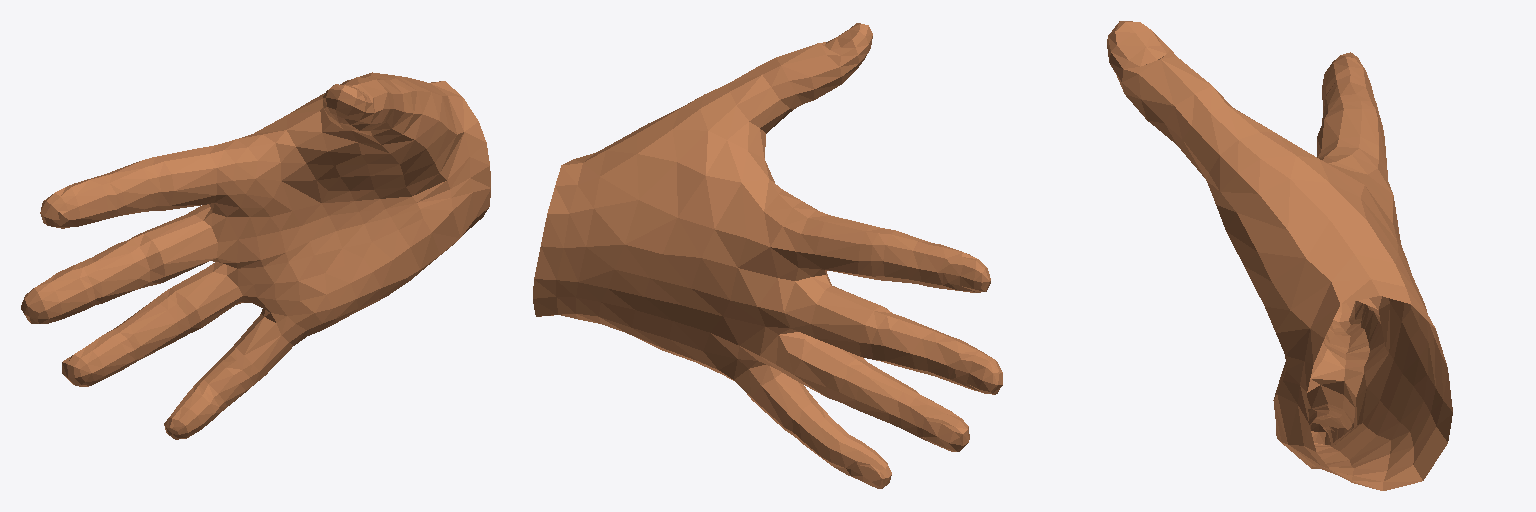
robot.urdf — mano_right:
<?xml version='1.0' encoding='utf-8'?>
<robot name="mano_right">
  <!--Approximate rigid-link MANO model: 21 revolute anatomical DOFs; six virtual links represent two-axis joints. Units: meters.-->
  <link name="base_link">
    <visual>
      <origin xyz="0 0 0" rpy="0 0 0" />
      <geometry>
        <mesh filename="mano_right_meshes/base_link.obj" />
      </geometry>
      <material name="mano_skin">
        <color rgba="0.78 0.54 0.38 1" />
      </material>
    </visual>
    <collision>
      <origin xyz="0 0 0" rpy="0 0 0" />
      <geometry>
        <mesh filename="mano_right_meshes/base_link.obj" />
      </geometry>
    </collision>
  </link>
  <link name="thumb_cmc_opposition_virtual_link" />
  <joint name="thumb_cmc_opposition" type="revolute">
    <parent link="base_link" />
    <child link="thumb_cmc_opposition_virtual_link" />
    <origin xyz="-0.0240896866 -0.0155223366 0.0258128485" rpy="0 0 0" />
    <axis xyz="0.204657919 -0.959969766 -0.19124117" />
    <limit lower="-0.785398163" upper="1.30899694" effort="1" velocity="10" />
  </joint>
  <link name="thumb_mcp">
    <visual>
      <origin xyz="0 0 0" rpy="0 0 0" />
      <geometry>
        <mesh filename="mano_right_meshes/thumb_mcp.obj" />
      </geometry>
      <material name="mano_skin">
        <color rgba="0.78 0.54 0.38 1" />
      </material>
    </visual>
    <collision>
      <origin xyz="0 0 0" rpy="0 0 0" />
      <geometry>
        <mesh filename="mano_right_meshes/thumb_mcp.obj" />
      </geometry>
    </collision>
  </link>
  <joint name="thumb_cmc_abduction" type="revolute">
    <parent link="thumb_cmc_opposition_virtual_link" />
    <child link="thumb_mcp" />
    <origin xyz="0 0 0" rpy="0 0 0" />
    <axis xyz="0.798923987 0.0486935512 0.599457589" />
    <limit lower="-0.610865238" upper="1.22173048" effort="1" velocity="10" />
  </joint>
  <link name="thumb_mcp_flexion_virtual_link" />
  <joint name="thumb_mcp_flexion" type="revolute">
    <parent link="thumb_mcp" />
    <child link="thumb_mcp_flexion_virtual_link" />
    <origin xyz="-0.015143767 -0.0156783657 0.0217435546" rpy="0 0 0" />
    <axis xyz="0.556177022 -0.226029605 0.799736043" />
    <limit lower="-0.34906585" upper="1.3962634" effort="1" velocity="10" />
  </joint>
  <link name="thumb_pip">
    <visual>
      <origin xyz="0 0 0" rpy="0 0 0" />
      <geometry>
        <mesh filename="mano_right_meshes/thumb_pip.obj" />
      </geometry>
      <material name="mano_skin">
        <color rgba="0.78 0.54 0.38 1" />
      </material>
    </visual>
    <collision>
      <origin xyz="0 0 0" rpy="0 0 0" />
      <geometry>
        <mesh filename="mano_right_meshes/thumb_pip.obj" />
      </geometry>
    </collision>
  </link>
  <joint name="thumb_mcp_abduction" type="revolute">
    <parent link="thumb_mcp_flexion_virtual_link" />
    <child link="thumb_pip" />
    <origin xyz="0 0 0" rpy="0 0 0" />
    <axis xyz="0.267337323 -0.86157801 -0.431525305" />
    <limit lower="-0.436332313" upper="0.8" effort="1" velocity="10" />
  </joint>
  <link name="thumb_dip">
    <visual>
      <origin xyz="0 0 0" rpy="0 0 0" />
      <geometry>
        <mesh filename="mano_right_meshes/thumb_dip.obj" />
      </geometry>
      <material name="mano_skin">
        <color rgba="0.78 0.54 0.38 1" />
      </material>
    </visual>
    <collision>
      <origin xyz="0 0 0" rpy="0 0 0" />
      <geometry>
        <mesh filename="mano_right_meshes/thumb_dip.obj" />
      </geometry>
    </collision>
  </link>
  <joint name="thumb_ip_flexion" type="revolute">
    <parent link="thumb_pip" />
    <child link="thumb_dip" />
    <origin xyz="-0.0180882961 -0.0170529485 0.0107752159" rpy="0 0 0" />
    <axis xyz="0.267337323 -0.86157801 -0.431525305" />
    <limit lower="-0.34906585" upper="1.57079633" effort="1" velocity="10" />
  </joint>
  <link name="index_mcp_flexion_virtual_link" />
  <joint name="index_mcp_flexion" type="revolute">
    <parent link="base_link" />
    <child link="index_mcp_flexion_virtual_link" />
    <origin xyz="-0.0880972221 -0.00520035718 0.0206859922" rpy="0 0 0" />
    <axis xyz="0.107649494 0.103488306 0.988788024" />
    <limit lower="-0.34906585" upper="1.65806279" effort="1" velocity="10" />
  </joint>
  <link name="index_mcp">
    <visual>
      <origin xyz="0 0 0" rpy="0 0 0" />
      <geometry>
        <mesh filename="mano_right_meshes/index_mcp.obj" />
      </geometry>
      <material name="mano_skin">
        <color rgba="0.78 0.54 0.38 1" />
      </material>
    </visual>
    <collision>
      <origin xyz="0 0 0" rpy="0 0 0" />
      <geometry>
        <mesh filename="mano_right_meshes/index_mcp.obj" />
      </geometry>
    </collision>
  </link>
  <joint name="index_mcp_abduction" type="revolute">
    <parent link="index_mcp_flexion_virtual_link" />
    <child link="index_mcp" />
    <origin xyz="0 0 0" rpy="0 0 0" />
    <axis xyz="-0.0792078103 0.991986768 -0.0984295416" />
    <limit lower="-0.436332313" upper="0.436332313" effort="1" velocity="10" />
  </joint>
  <link name="index_pip">
    <visual>
      <origin xyz="0 0 0" rpy="0 0 0" />
      <geometry>
        <mesh filename="mano_right_meshes/index_pip.obj" />
      </geometry>
      <material name="mano_skin">
        <color rgba="0.78 0.54 0.38 1" />
      </material>
    </visual>
    <collision>
      <origin xyz="0 0 0" rpy="0 0 0" />
      <geometry>
        <mesh filename="mano_right_meshes/index_pip.obj" />
      </geometry>
    </collision>
  </link>
  <joint name="index_pip_flexion" type="revolute">
    <parent link="index_mcp" />
    <child link="index_pip" />
    <origin xyz="-0.0326789096 0.00400935393 0.00221706554" rpy="0 0 0" />
    <axis xyz="-0.0239206248 0.0984951863 0.99484999" />
    <limit lower="-0.174532925" upper="2.00712864" effort="1" velocity="10" />
  </joint>
  <link name="index_dip">
    <visual>
      <origin xyz="0 0 0" rpy="0 0 0" />
      <geometry>
        <mesh filename="mano_right_meshes/index_dip.obj" />
      </geometry>
      <material name="mano_skin">
        <color rgba="0.78 0.54 0.38 1" />
      </material>
    </visual>
    <collision>
      <origin xyz="0 0 0" rpy="0 0 0" />
      <geometry>
        <mesh filename="mano_right_meshes/index_dip.obj" />
      </geometry>
    </collision>
  </link>
  <joint name="index_dip_flexion" type="revolute">
    <parent link="index_pip" />
    <child link="index_dip" />
    <origin xyz="-0.0221559107 -0.00129842223 -0.00011411123" rpy="0 0 0" />
    <axis xyz="0.00783218547 0.0952493193 0.995422636" />
    <limit lower="-0.174532925" upper="1.57079633" effort="1" velocity="10" />
  </joint>
  <link name="middle_mcp_flexion_virtual_link" />
  <joint name="middle_mcp_flexion" type="revolute">
    <parent link="base_link" />
    <child link="middle_mcp_flexion_virtual_link" />
    <origin xyz="-0.0946604162 -0.00147896446 -0.00335753895" rpy="0 0 0" />
    <axis xyz="-0.159898754 0.0827766762 0.983656653" />
    <limit lower="-0.34906585" upper="1.65806279" effort="1" velocity="10" />
  </joint>
  <link name="middle_mcp">
    <visual>
      <origin xyz="0 0 0" rpy="0 0 0" />
      <geometry>
        <mesh filename="mano_right_meshes/middle_mcp.obj" />
      </geometry>
      <material name="mano_skin">
        <color rgba="0.78 0.54 0.38 1" />
      </material>
    </visual>
    <collision>
      <origin xyz="0 0 0" rpy="0 0 0" />
      <geometry>
        <mesh filename="mano_right_meshes/middle_mcp.obj" />
      </geometry>
    </collision>
  </link>
  <joint name="middle_mcp_abduction" type="revolute">
    <parent link="middle_mcp_flexion_virtual_link" />
    <child link="middle_mcp" />
    <origin xyz="0 0 0" rpy="0 0 0" />
    <axis xyz="-0.0737124579 0.992562915 -0.0968779276" />
    <limit lower="-0.34906585" upper="0.34906585" effort="1" velocity="10" />
  </joint>
  <link name="middle_pip">
    <visual>
      <origin xyz="0 0 0" rpy="0 0 0" />
      <geometry>
        <mesh filename="mano_right_meshes/middle_pip.obj" />
      </geometry>
      <material name="mano_skin">
        <color rgba="0.78 0.54 0.38 1" />
      </material>
    </visual>
    <collision>
      <origin xyz="0 0 0" rpy="0 0 0" />
      <geometry>
        <mesh filename="mano_right_meshes/middle_pip.obj" />
      </geometry>
    </collision>
  </link>
  <joint name="middle_pip_flexion" type="revolute">
    <parent link="middle_mcp" />
    <child link="middle_pip" />
    <origin xyz="-0.0311826747 0.00186132966 -0.00559450965" rpy="0 0 0" />
    <axis xyz="-0.175263375 0.0838481096 0.980944567" />
    <limit lower="-0.174532925" upper="2.00712864" effort="1" velocity="10" />
  </joint>
  <link name="middle_dip">
    <visual>
      <origin xyz="0 0 0" rpy="0 0 0" />
      <geometry>
        <mesh filename="mano_right_meshes/middle_dip.obj" />
      </geometry>
      <material name="mano_skin">
        <color rgba="0.78 0.54 0.38 1" />
      </material>
    </visual>
    <collision>
      <origin xyz="0 0 0" rpy="0 0 0" />
      <geometry>
        <mesh filename="mano_right_meshes/middle_dip.obj" />
      </geometry>
    </collision>
  </link>
  <joint name="middle_dip_flexion" type="revolute">
    <parent link="middle_pip" />
    <child link="middle_dip" />
    <origin xyz="-0.022904655 -0.00125210453 -0.00394451432" rpy="0 0 0" />
    <axis xyz="-0.138321493 0.0832350069 0.986883528" />
    <limit lower="-0.174532925" upper="1.57079633" effort="1" velocity="10" />
  </joint>
  <link name="ring_mcp_flexion_virtual_link" />
  <joint name="ring_mcp_flexion" type="revolute">
    <parent link="base_link" />
    <child link="ring_mcp_flexion_virtual_link" />
    <origin xyz="-0.0817355365 -0.00395742105 -0.0266731875" rpy="0 0 0" />
    <axis xyz="-0.175828123 0.083169364 0.980901283" />
    <limit lower="-0.34906585" upper="1.65806279" effort="1" velocity="10" />
  </joint>
  <link name="ring_mcp">
    <visual>
      <origin xyz="0 0 0" rpy="0 0 0" />
      <geometry>
        <mesh filename="mano_right_meshes/ring_mcp.obj" />
      </geometry>
      <material name="mano_skin">
        <color rgba="0.78 0.54 0.38 1" />
      </material>
    </visual>
    <collision>
      <origin xyz="0 0 0" rpy="0 0 0" />
      <geometry>
        <mesh filename="mano_right_meshes/ring_mcp.obj" />
      </geometry>
    </collision>
  </link>
  <joint name="ring_mcp_abduction" type="revolute">
    <parent link="ring_mcp_flexion_virtual_link" />
    <child link="ring_mcp" />
    <origin xyz="0 0 0" rpy="0 0 0" />
    <axis xyz="0.0791415884 -0.992071971 0.0976207659" />
    <limit lower="-0.436332313" upper="0.436332313" effort="1" velocity="10" />
  </joint>
  <link name="ring_pip">
    <visual>
      <origin xyz="0 0 0" rpy="0 0 0" />
      <geometry>
        <mesh filename="mano_right_meshes/ring_pip.obj" />
      </geometry>
      <material name="mano_skin">
        <color rgba="0.78 0.54 0.38 1" />
      </material>
    </visual>
    <collision>
      <origin xyz="0 0 0" rpy="0 0 0" />
      <geometry>
        <mesh filename="mano_right_meshes/ring_pip.obj" />
      </geometry>
    </collision>
  </link>
  <joint name="ring_pip_flexion" type="revolute">
    <parent link="ring_mcp" />
    <child link="ring_pip" />
    <origin xyz="-0.0283142738 0.00206700759 -0.00509853661" rpy="0 0 0" />
    <axis xyz="-0.314779875 0.0689495478 0.946657061" />
    <limit lower="-0.174532925" upper="2.00712864" effort="1" velocity="10" />
  </joint>
  <link name="ring_dip">
    <visual>
      <origin xyz="0 0 0" rpy="0 0 0" />
      <geometry>
        <mesh filename="mano_right_meshes/ring_dip.obj" />
      </geometry>
      <material name="mano_skin">
        <color rgba="0.78 0.54 0.38 1" />
      </material>
    </visual>
    <collision>
      <origin xyz="0 0 0" rpy="0 0 0" />
      <geometry>
        <mesh filename="mano_right_meshes/ring_dip.obj" />
      </geometry>
    </collision>
  </link>
  <joint name="ring_dip_flexion" type="revolute">
    <parent link="ring_pip" />
    <child link="ring_dip" />
    <origin xyz="-0.0235205181 -0.00168811181 -0.00763381645" rpy="0 0 0" />
    <axis xyz="-0.263960758 0.0646647379 0.962363336" />
    <limit lower="-0.174532925" upper="1.57079633" effort="1" velocity="10" />
  </joint>
  <link name="pinky_mcp_flexion_virtual_link" />
  <joint name="pinky_mcp_flexion" type="revolute">
    <parent link="base_link" />
    <child link="pinky_mcp_flexion_virtual_link" />
    <origin xyz="-0.0687869564 -0.00994032901 -0.0432093414" rpy="0 0 0" />
    <axis xyz="-0.608246702 0.0317900893 0.793111177" />
    <limit lower="-0.34906585" upper="1.74532925" effort="1" velocity="10" />
  </joint>
  <link name="pinky_mcp">
    <visual>
      <origin xyz="0 0 0" rpy="0 0 0" />
      <geometry>
        <mesh filename="mano_right_meshes/pinky_mcp.obj" />
      </geometry>
      <material name="mano_skin">
        <color rgba="0.78 0.54 0.38 1" />
      </material>
    </visual>
    <collision>
      <origin xyz="0 0 0" rpy="0 0 0" />
      <geometry>
        <mesh filename="mano_right_meshes/pinky_mcp.obj" />
      </geometry>
    </collision>
  </link>
  <joint name="pinky_mcp_abduction" type="revolute">
    <parent link="pinky_mcp_flexion_virtual_link" />
    <child link="pinky_mcp" />
    <origin xyz="0 0 0" rpy="0 0 0" />
    <axis xyz="0.0707046098 -0.993349764 0.0908686075" />
    <limit lower="-0.523598776" upper="0.523598776" effort="1" velocity="10" />
  </joint>
  <link name="pinky_pip">
    <visual>
      <origin xyz="0 0 0" rpy="0 0 0" />
      <geometry>
        <mesh filename="mano_right_meshes/pinky_pip.obj" />
      </geometry>
      <material name="mano_skin">
        <color rgba="0.78 0.54 0.38 1" />
      </material>
    </visual>
    <collision>
      <origin xyz="0 0 0" rpy="0 0 0" />
      <geometry>
        <mesh filename="mano_right_meshes/pinky_pip.obj" />
      </geometry>
    </collision>
  </link>
  <joint name="pinky_pip_flexion" type="revolute">
    <parent link="pinky_mcp" />
    <child link="pinky_pip" />
    <origin xyz="-0.0170144048 6.18244521e-05 -0.0124987848" rpy="0 0 0" />
    <axis xyz="-0.530676331 0.0410549975 0.846579659" />
    <limit lower="-0.174532925" upper="2.0943951" effort="1" velocity="10" />
  </joint>
  <link name="pinky_dip">
    <visual>
      <origin xyz="0 0 0" rpy="0 0 0" />
      <geometry>
        <mesh filename="mano_right_meshes/pinky_dip.obj" />
      </geometry>
      <material name="mano_skin">
        <color rgba="0.78 0.54 0.38 1" />
      </material>
    </visual>
    <collision>
      <origin xyz="0 0 0" rpy="0 0 0" />
      <geometry>
        <mesh filename="mano_right_meshes/pinky_dip.obj" />
      </geometry>
    </collision>
  </link>
  <joint name="pinky_dip_flexion" type="revolute">
    <parent link="pinky_pip" />
    <child link="pinky_dip" />
    <origin xyz="-0.0158669017 -0.000691154506 -0.0103318915" rpy="0 0 0" />
    <axis xyz="-0.443702021 0.0536870141 0.894564822" />
    <limit lower="-0.174532925" upper="1.65806279" effort="1" velocity="10" />
  </joint>
  <link name="thumb_tip" />
  <joint name="thumb_tip_fixed" type="fixed">
    <parent link="thumb_dip" />
    <child link="thumb_tip" />
    <origin xyz="-0.0206638109 -0.0202782974 0.020397462" rpy="0 0 0" />
  </joint>
  <link name="index_tip" />
  <joint name="index_tip_fixed" type="fixed">
    <parent link="index_dip" />
    <child link="index_tip" />
    <origin xyz="-0.0254820436 0.00118407072 -0.000501507893" rpy="0 0 0" />
  </joint>
  <link name="middle_tip" />
  <joint name="middle_tip_fixed" type="fixed">
    <parent link="middle_dip" />
    <child link="middle_tip" />
    <origin xyz="-0.0256918482 0.0038468088 -0.00413642917" rpy="0 0 0" />
  </joint>
  <link name="ring_tip" />
  <joint name="ring_tip_fixed" type="fixed">
    <parent link="ring_dip" />
    <child link="ring_tip" />
    <origin xyz="-0.024435699 0.00385906151 -0.00734077021" rpy="0 0 0" />
  </joint>
  <link name="pinky_tip" />
  <joint name="pinky_tip_fixed" type="fixed">
    <parent link="pinky_dip" />
    <child link="pinky_tip" />
    <origin xyz="-0.0170934796 0.00154867582 -0.0103156678" rpy="0 0 0" />
  </joint>
</robot>

--- What the picture shows (computed from the rendered views, not written in the file) ---
The picture shows the robot from 3 angles, left to right: view 1: azimuth 30°, elevation 25°; view 2: azimuth 150°, elevation 25°; view 3: azimuth 270°, elevation 25°; orthographic projection.
Robot: mano_right — 27 links, 26 joints (21 revolute, 5 fixed); root link base_link; default pose: all joints at 0.
Visible links, largest first — view 1: base_link, middle_mcp, index_mcp, thumb_mcp, ring_mcp, ring_pip, thumb_dip, middle_pip, middle_dip, index_dip, pinky_mcp, ring_dip (+4 smaller); view 2: base_link, middle_mcp, thumb_pip, index_mcp, thumb_dip, ring_mcp, ring_pip, middle_dip, index_dip, index_pip, pinky_mcp, ring_dip (+4 smaller); view 3: base_link, thumb_mcp, thumb_pip, thumb_dip, index_mcp, ring_mcp, index_pip, pinky_mcp, ring_pip, index_dip, ring_dip, pinky_dip.
Link boxes in pixels (bbox=[...]): base_link: bbox=[212, 78, 490, 341]; middle_mcp: bbox=[124, 204, 237, 286]; index_mcp: bbox=[145, 139, 254, 211]; thumb_mcp: bbox=[328, 73, 448, 186]; ring_mcp: bbox=[168, 262, 270, 327]; ring_pip: bbox=[113, 289, 200, 366]; thumb_dip: bbox=[323, 77, 389, 130]; middle_pip: bbox=[79, 239, 149, 305]; middle_dip: bbox=[21, 263, 94, 323]; index_dip: bbox=[40, 177, 116, 228]; pinky_mcp: bbox=[228, 309, 306, 383]; ring_dip: bbox=[62, 329, 134, 386]; base_link: bbox=[533, 130, 814, 395]; middle_mcp: bbox=[784, 269, 897, 360]; thumb_pip: bbox=[700, 58, 801, 158]; index_mcp: bbox=[783, 202, 883, 279]; thumb_dip: bbox=[776, 23, 872, 104]; ring_mcp: bbox=[760, 332, 866, 402]; ring_pip: bbox=[840, 362, 918, 428]; middle_dip: bbox=[927, 336, 1002, 394]; index_dip: bbox=[919, 244, 990, 292]; index_pip: bbox=[871, 228, 936, 286]; pinky_mcp: bbox=[747, 366, 821, 436]; ring_dip: bbox=[901, 394, 969, 451]; base_link: bbox=[1265, 147, 1452, 490]; thumb_mcp: bbox=[1216, 156, 1365, 305]; thumb_pip: bbox=[1162, 86, 1318, 203]; thumb_dip: bbox=[1107, 21, 1211, 131]; index_mcp: bbox=[1317, 101, 1387, 179]; ring_mcp: bbox=[1311, 298, 1385, 377]; index_pip: bbox=[1322, 75, 1382, 125]; pinky_mcp: bbox=[1307, 381, 1355, 427]; ring_pip: bbox=[1324, 306, 1380, 353]; index_dip: bbox=[1322, 52, 1373, 109]; ring_dip: bbox=[1330, 301, 1368, 333]; pinky_dip: bbox=[1310, 416, 1344, 444].
Bounding box of the posed robot: 0.1931 × 0.1006 × 0.1582 m (x, y, z).
16 mesh visuals loaded from 16 distinct referenced files (16 OBJ).
